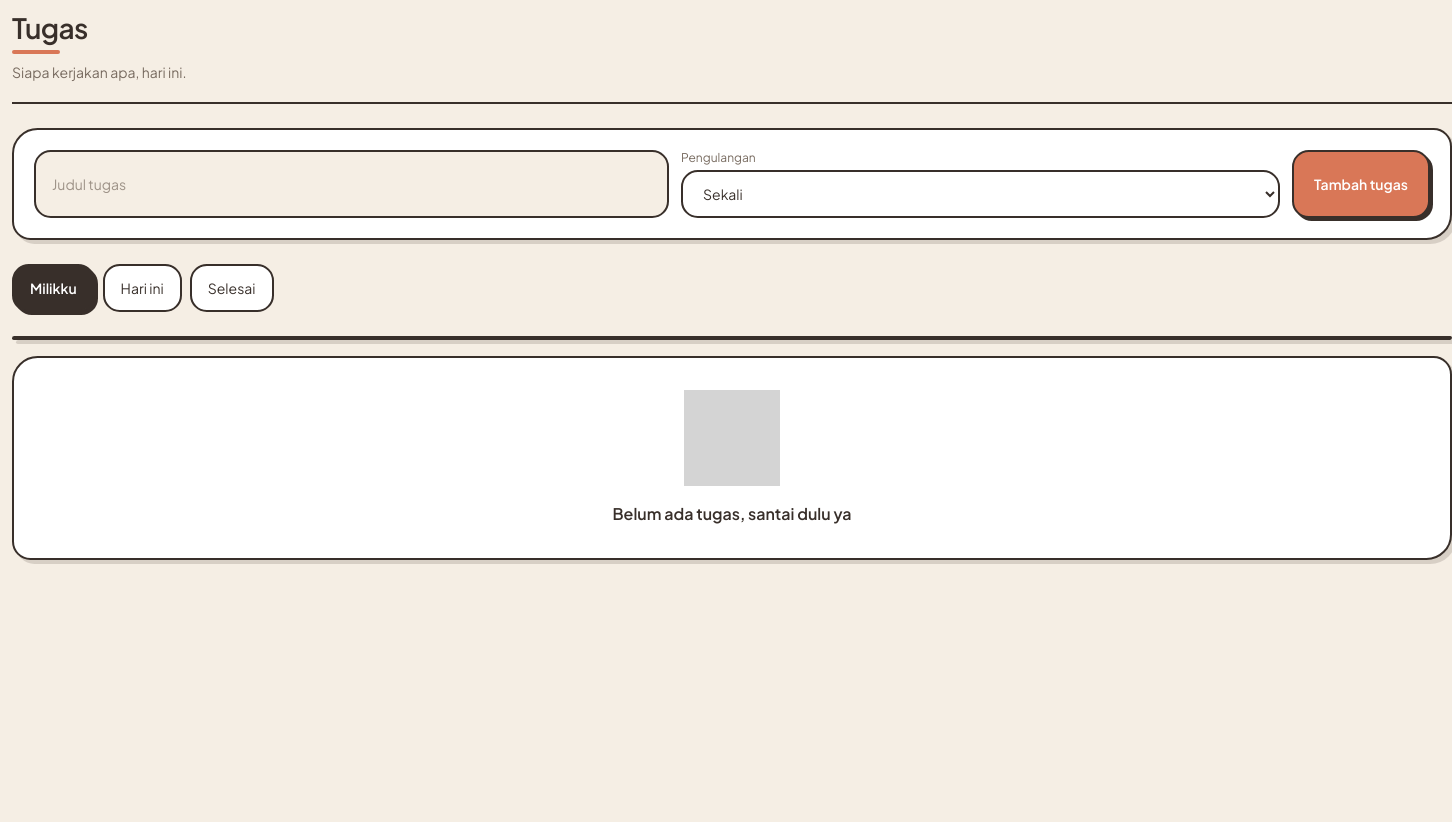
Scenario: tugas baru langsung terlihat di tab Milikku
This screenshot has width=1452, height=822.
Expected: the text "Belum ada tugas, santai dulu ya" is shown, [612,503,851,524]
Type "Sapu" into the field labelled "Judul tugas". click: coordinates (352, 184)
box: [34,150,669,218]
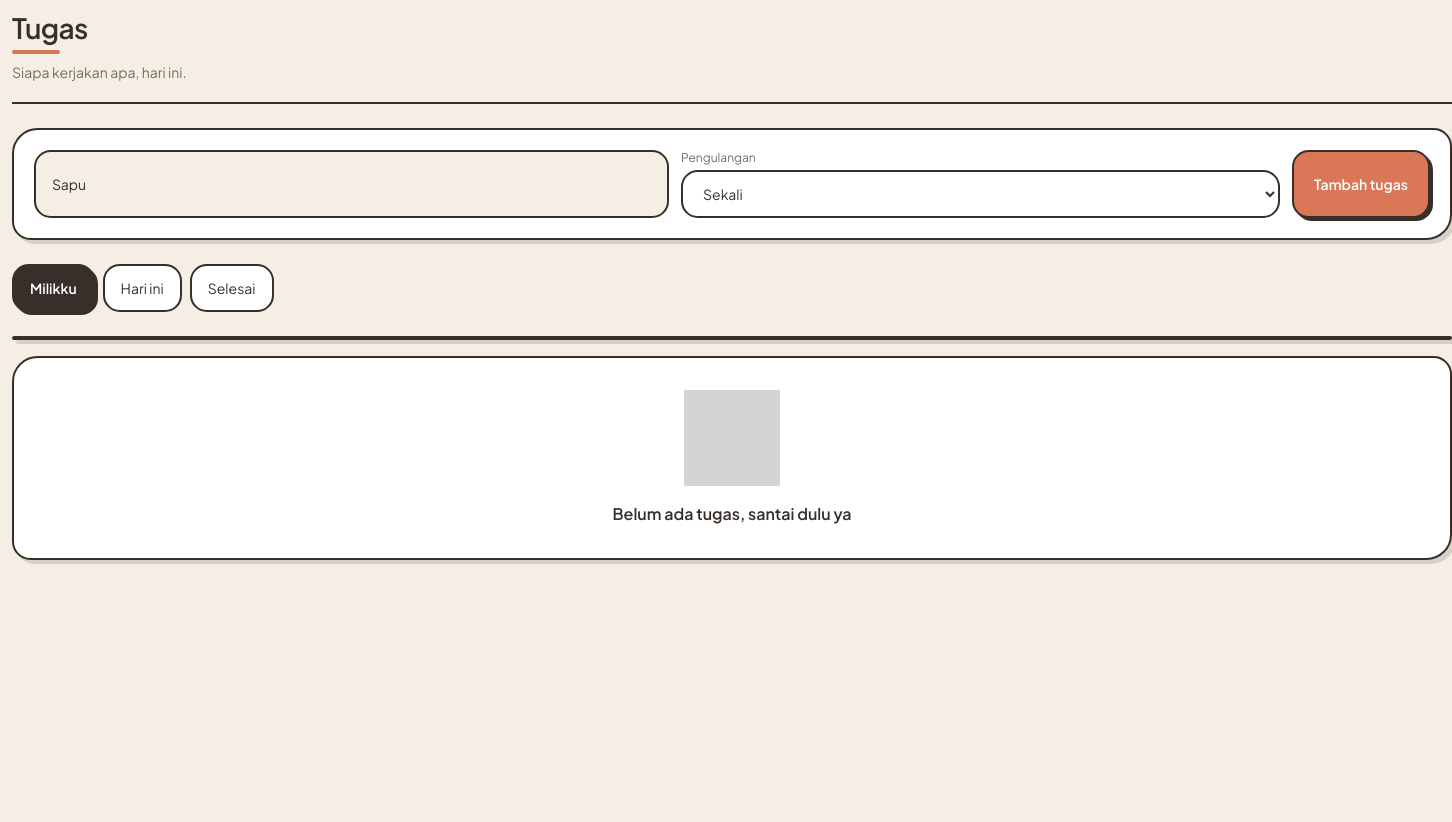
Click the button "Tambah tugas". click: coordinates (1361, 184)
box: [1292,150,1430,218]
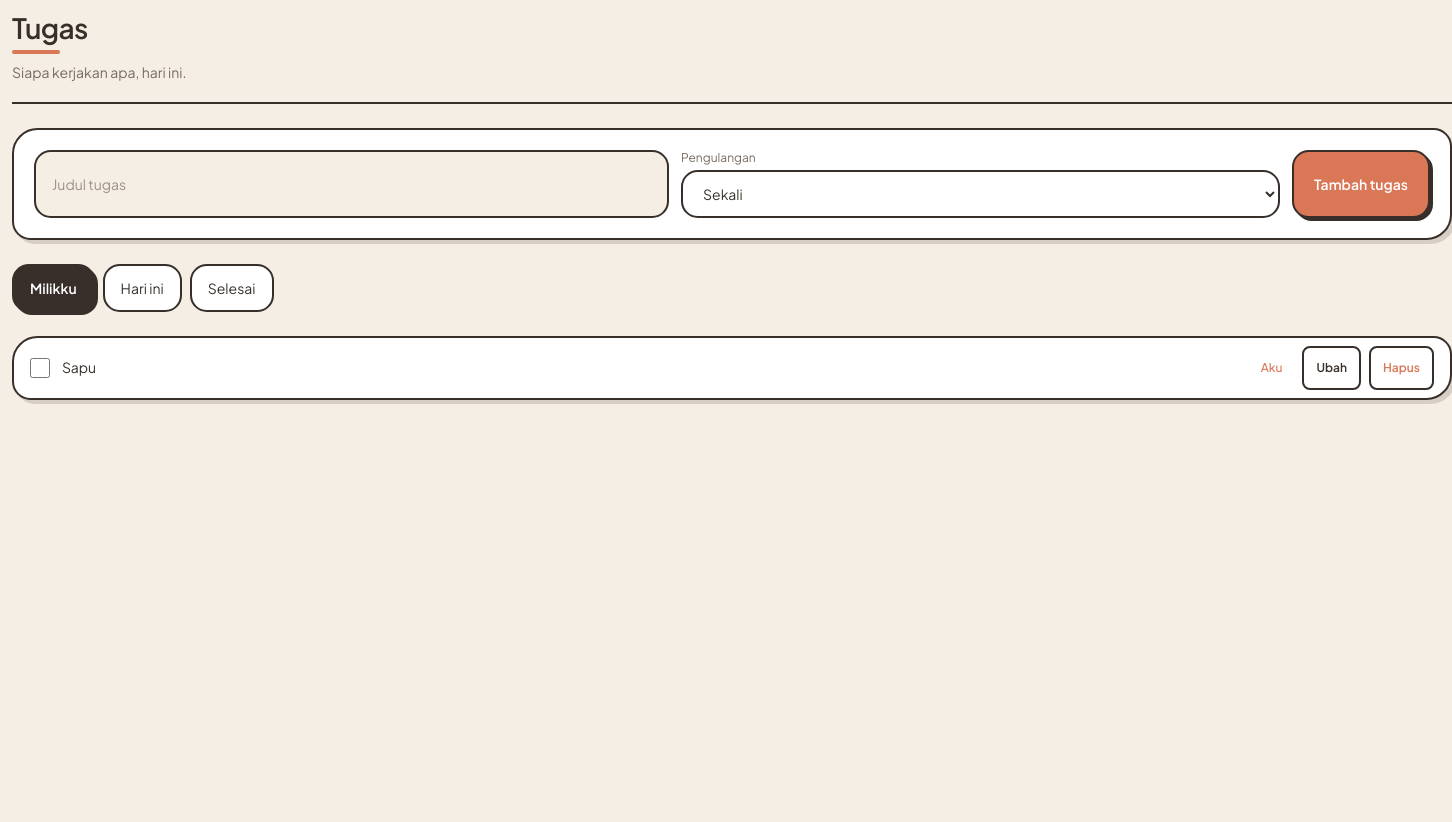
Expected: the text "Sapu" is shown, [62,358,96,376]
